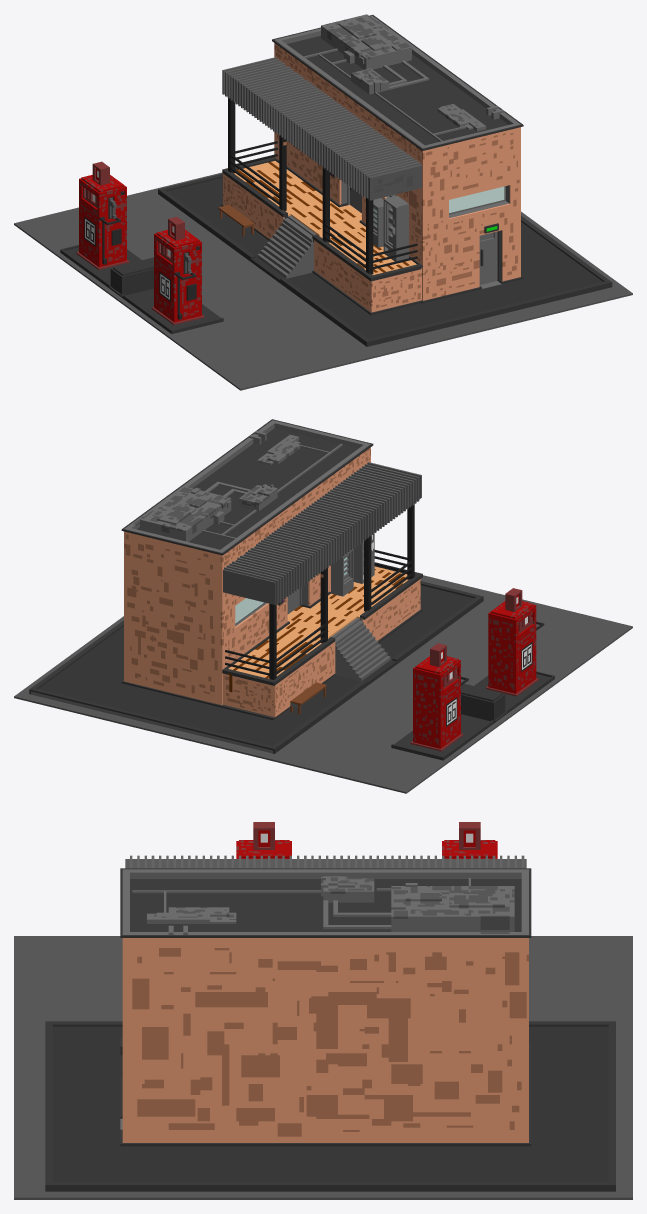
Rendered from Station.obj.
The picture shows the model from 3 angles, top to bottom: view 1: azimuth 30°, elevation 25°; view 2: azimuth 150°, elevation 25°; view 3: azimuth 270°, elevation 25°; orthographic projection. The views are drawn at different scales.
Size of the model in its own units: 25.6 by 10.5 by 25.6.
1 material, 1 textured.
